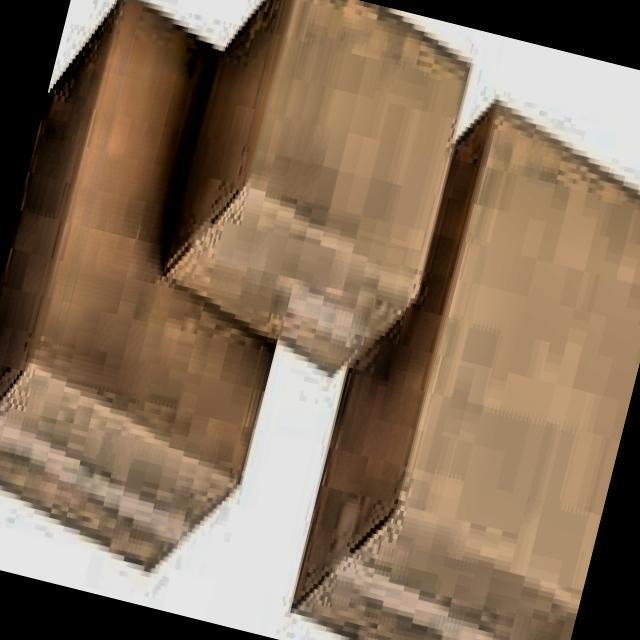cardboard: (0, 0, 352, 598), (278, 84, 640, 640), (145, 0, 485, 398)
